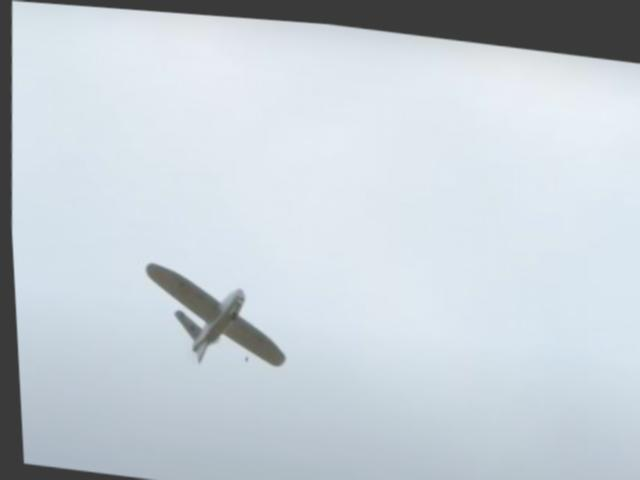uav: (136, 254, 290, 370)
